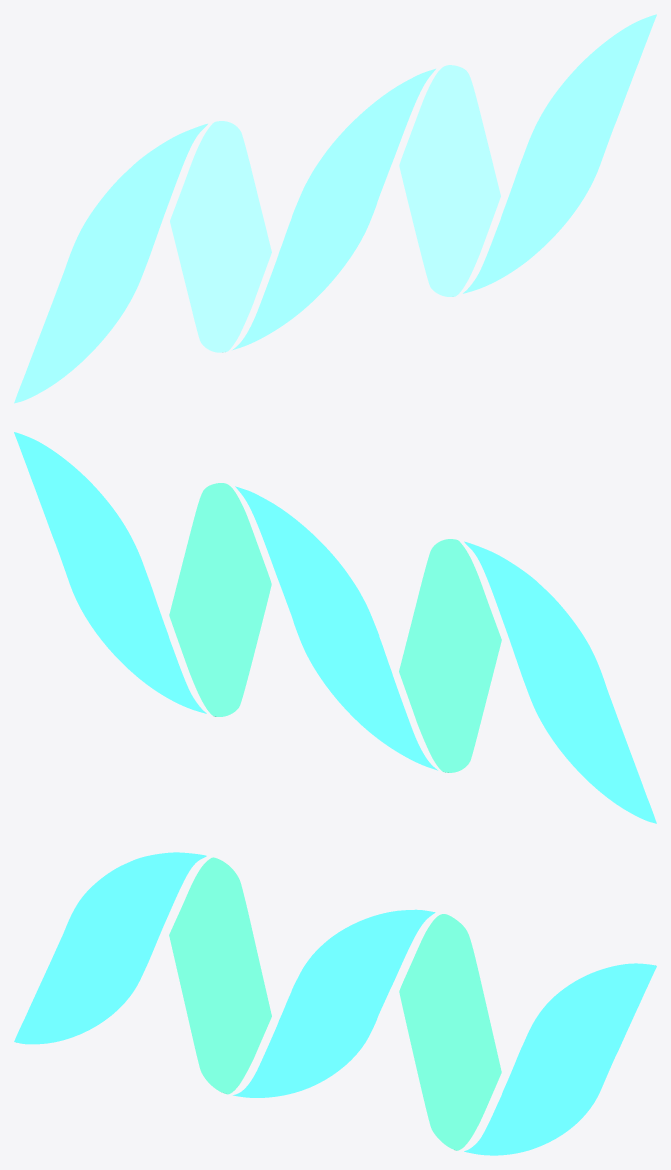
3 renders of one model, top to bottom at view 1: azimuth 30°, elevation 25°; view 2: azimuth 150°, elevation 25°; view 3: azimuth 330°, elevation 25°, orthographic.
Parts seen in each view (by area): view 1: path45; view 2: path45; view 3: path45.
Boxes of the visible parts, bbox=[...] form: path45: bbox=[14, 14, 656, 403]; path45: bbox=[14, 432, 656, 823]; path45: bbox=[14, 852, 656, 1155].
Size of the model in its own units: 24.2 by 8.44 by 0.0661.
